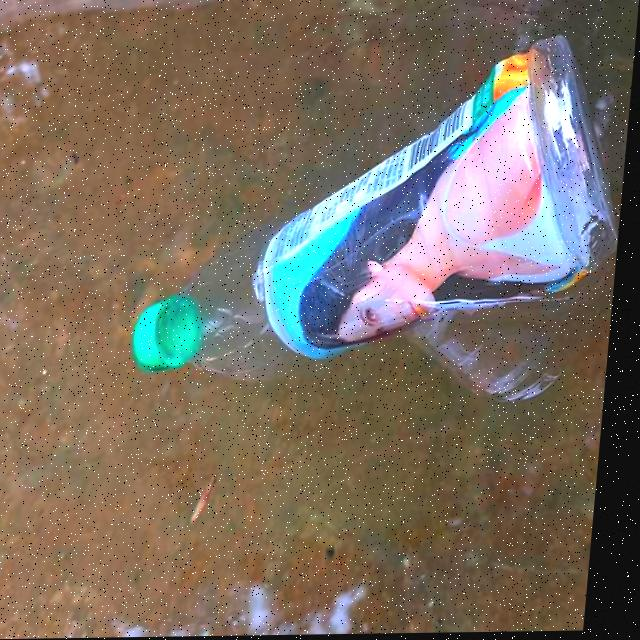waterbottle: (121, 33, 637, 392)
